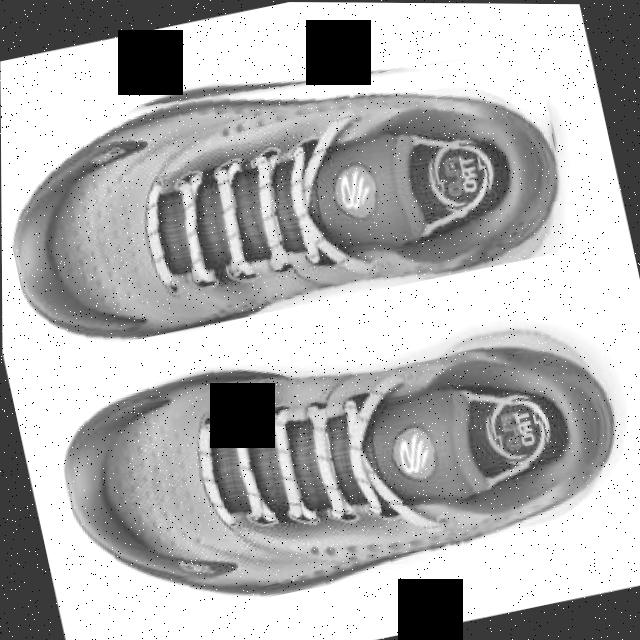shoe: (45, 281, 640, 634), (0, 13, 580, 362)
